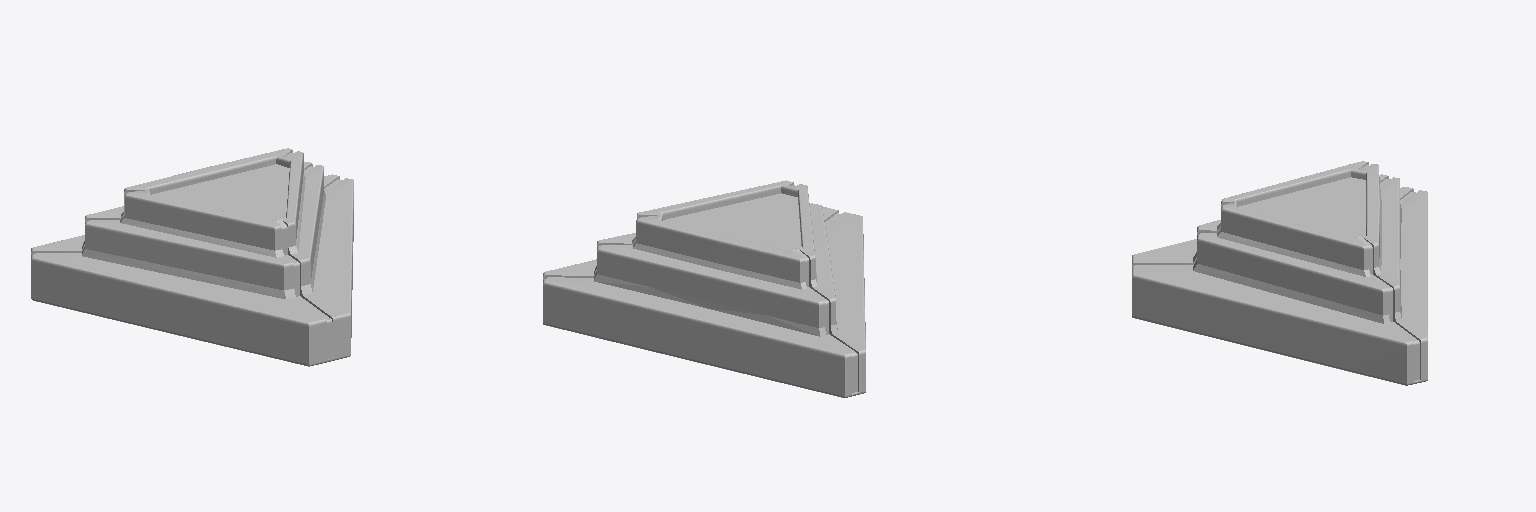
Rendered from artifact1.obj.
3 renders of one model, left to right at view 1: azimuth 30°, elevation 25°; view 2: azimuth 150°, elevation 25°; view 3: azimuth 270°, elevation 25°, orthographic.
Parts seen in each view (by area): view 1: Box001; view 2: Box001; view 3: Box001.
Boxes of the visible parts, <box> form: Box001: <box>31,148,353,366</box>; Box001: <box>543,180,865,397</box>; Box001: <box>1132,161,1427,385</box>.
Size of the model in its own units: 4.08 by 1.26 by 3.24.